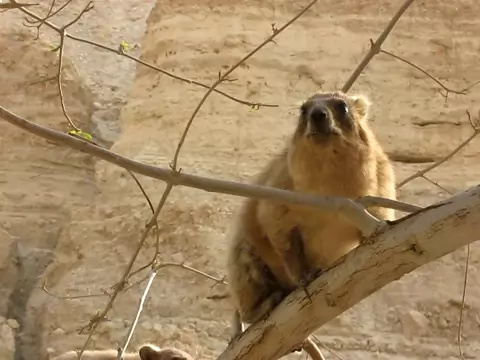Rock Hyrex: (231, 91, 399, 321)
